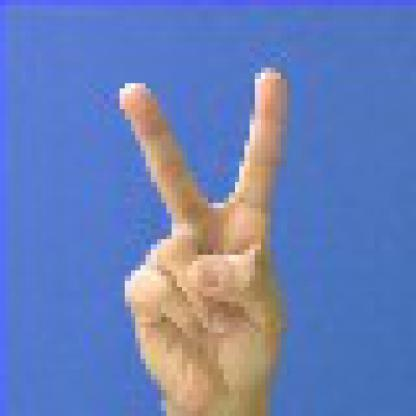two: (100, 50, 311, 406)
